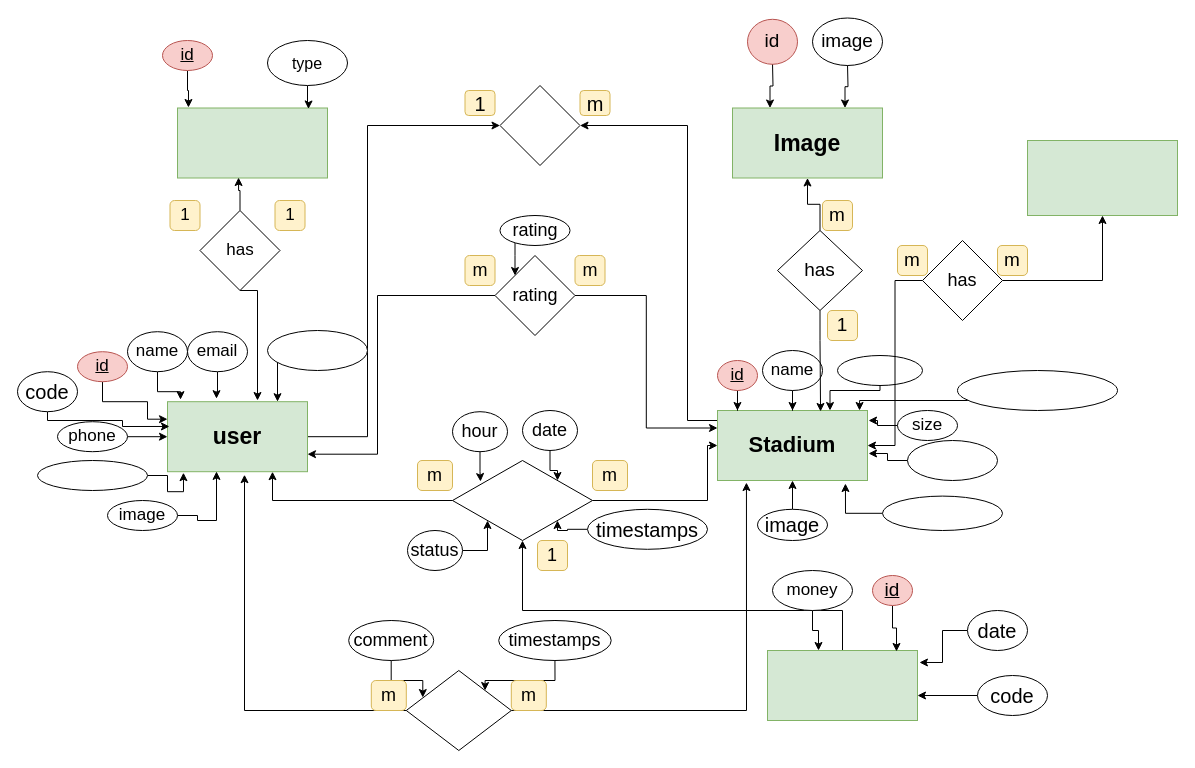
Some shapes in this 1195 by 768 pixel diagram are drawn without their labels. The shapes that lost their labels are listed below. From the top down, each one's centre as x and y in pixels, then its label:
At pixel 252 142: "Role".
At pixel 539 125: "owns".
At pixel 1102 178: "Service".
At pixel 317 350: "password".
At pixel 879 370: "address".
At pixel 1037 390: "google address".
At pixel 92 475: "date of birth".
At pixel 952 460: "join date".
At pixel 522 500: "match".
At pixel 942 512: "hour price".
At pixel 842 685: "bill".
At pixel 458 710: "comments".
